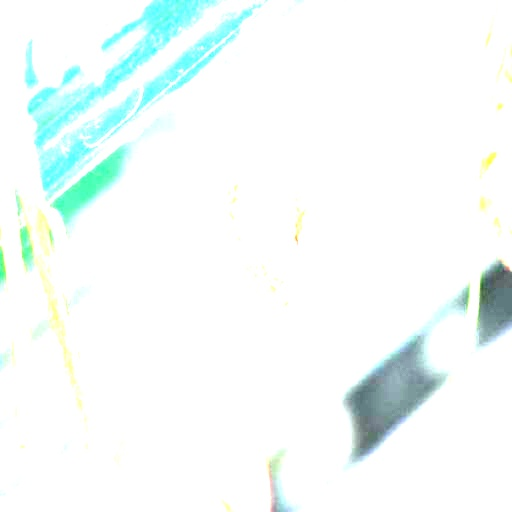Gray Mold: (226, 139, 332, 383)
